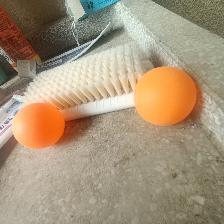YellowBall: (132, 65, 196, 126), (12, 102, 65, 150)
